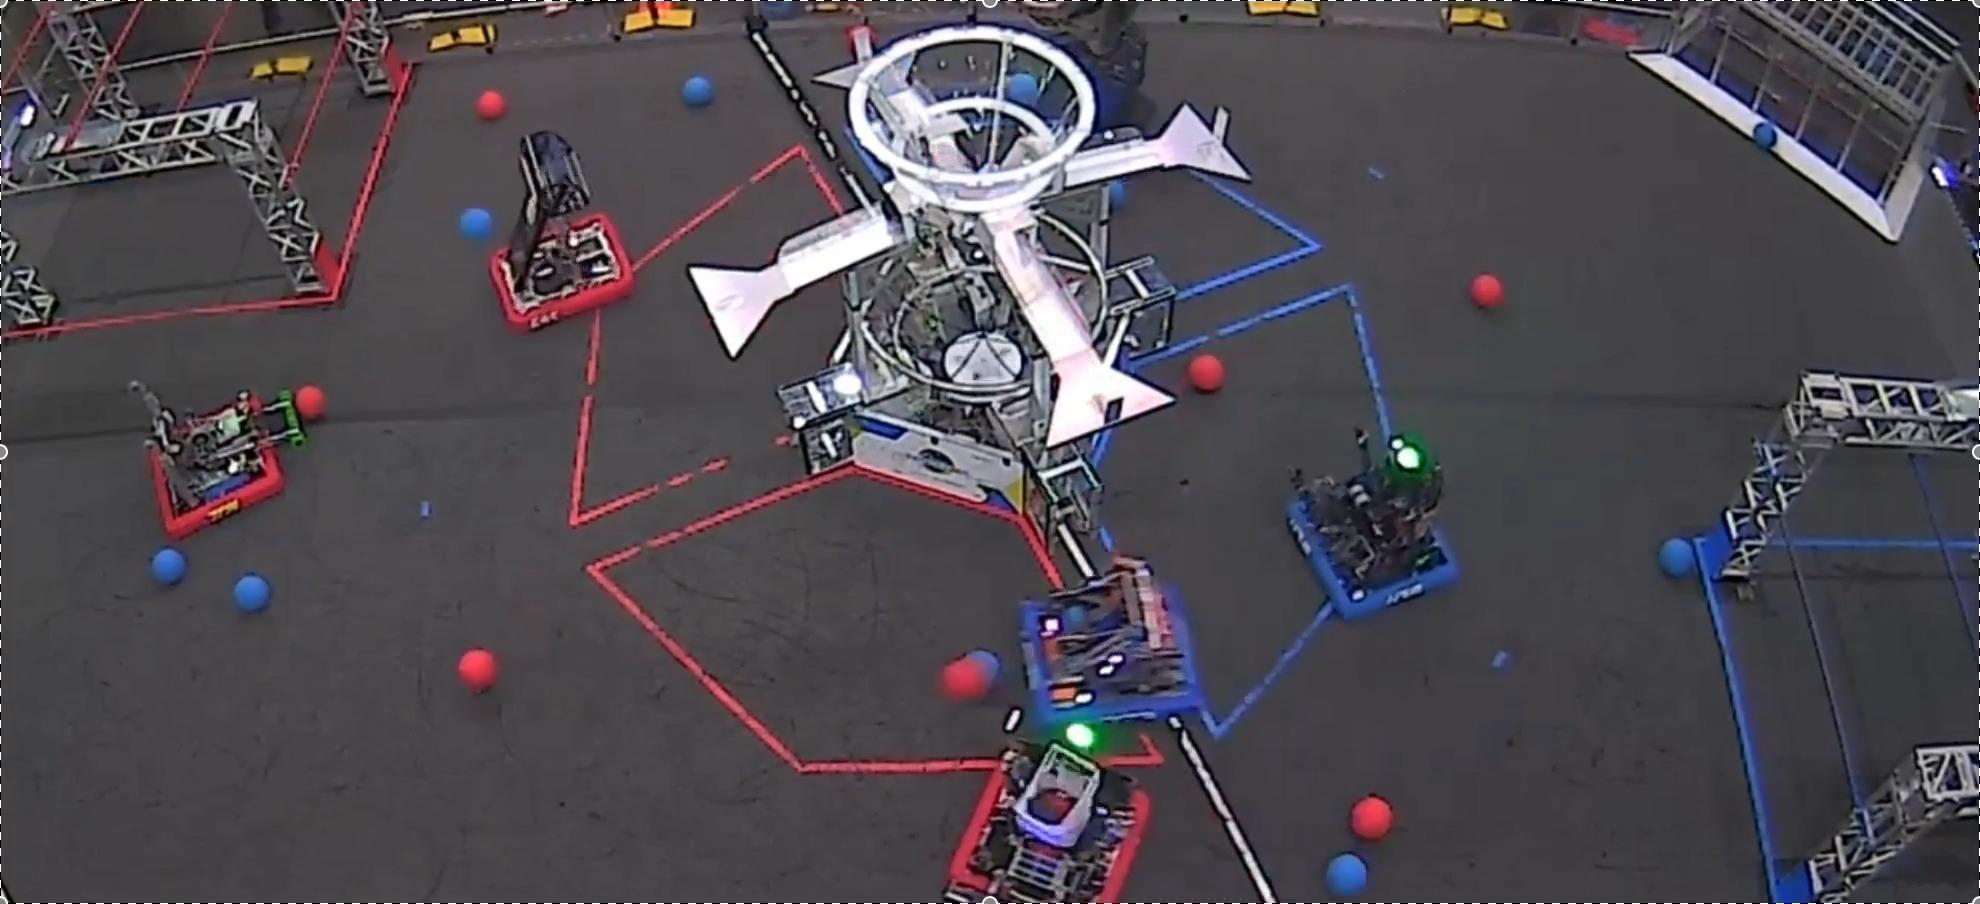Robots: (945, 741, 1147, 903), (1287, 431, 1456, 617), (1022, 556, 1203, 723), (490, 130, 633, 331), (129, 381, 306, 539)
